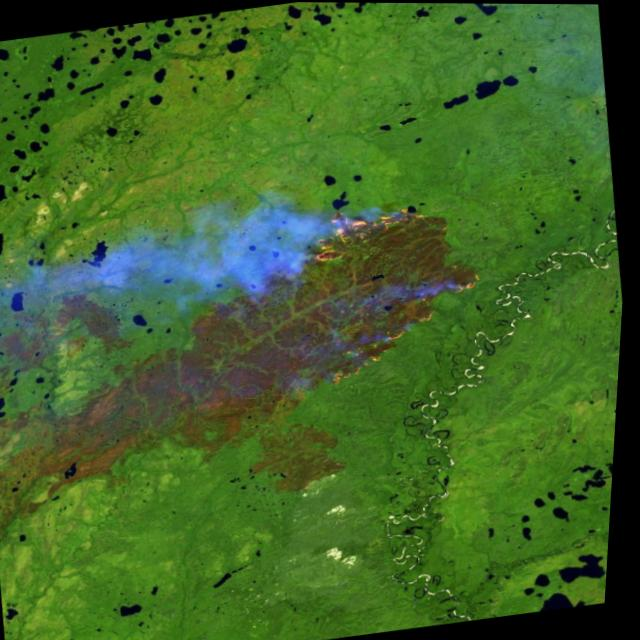fire: (243, 181, 521, 401)
